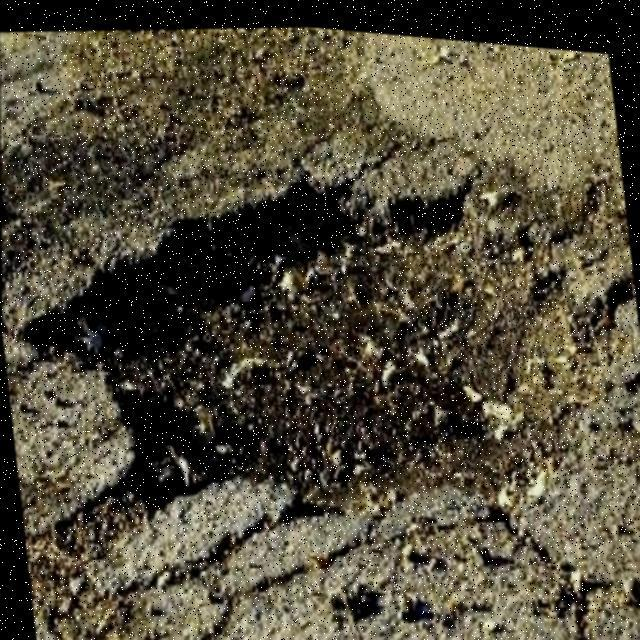pothole: (1, 105, 623, 572)
